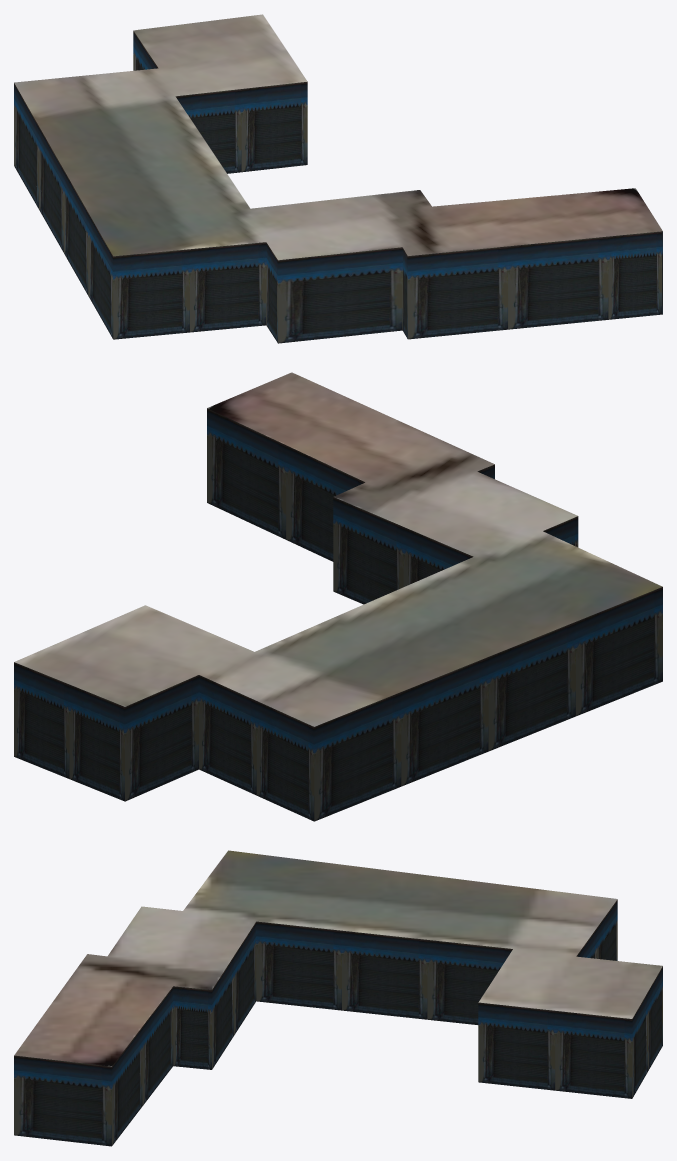
Rendered from T_1SXW04NV44.dae.
The picture shows the model from 3 angles, top to bottom: view 1: azimuth 30°, elevation 25°; view 2: azimuth 150°, elevation 25°; view 3: azimuth 270°, elevation 25°; orthographic projection. The views are drawn at different scales.
Parts seen in each view (by area): view 1: SketchUp (×10); view 2: SketchUp (×7); view 3: SketchUp (×9).
Part boxes in pixels (<box>): SketchUp (×10): <box>14,14,662,343</box>; SketchUp (×7): <box>14,372,662,821</box>; SketchUp (×9): <box>14,850,662,1146</box>.
Size of the model in its own units: 24.31 by 30.85 by 4.19.
2 materials, 2 textured.
